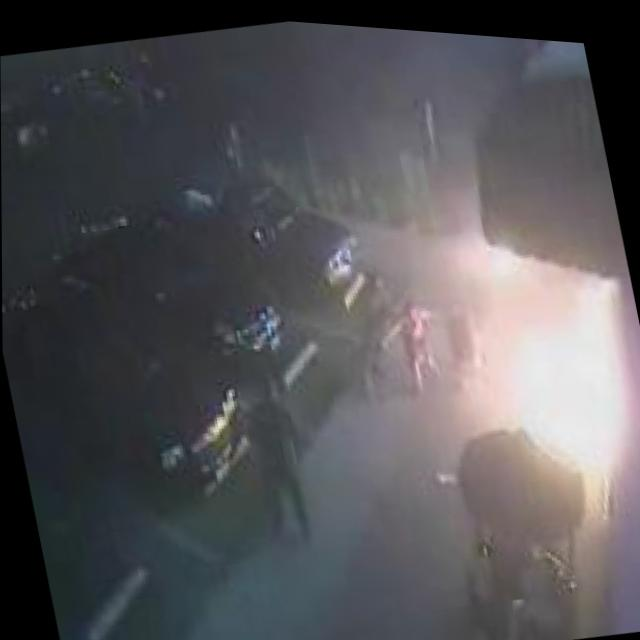fire: (447, 203, 640, 508)
